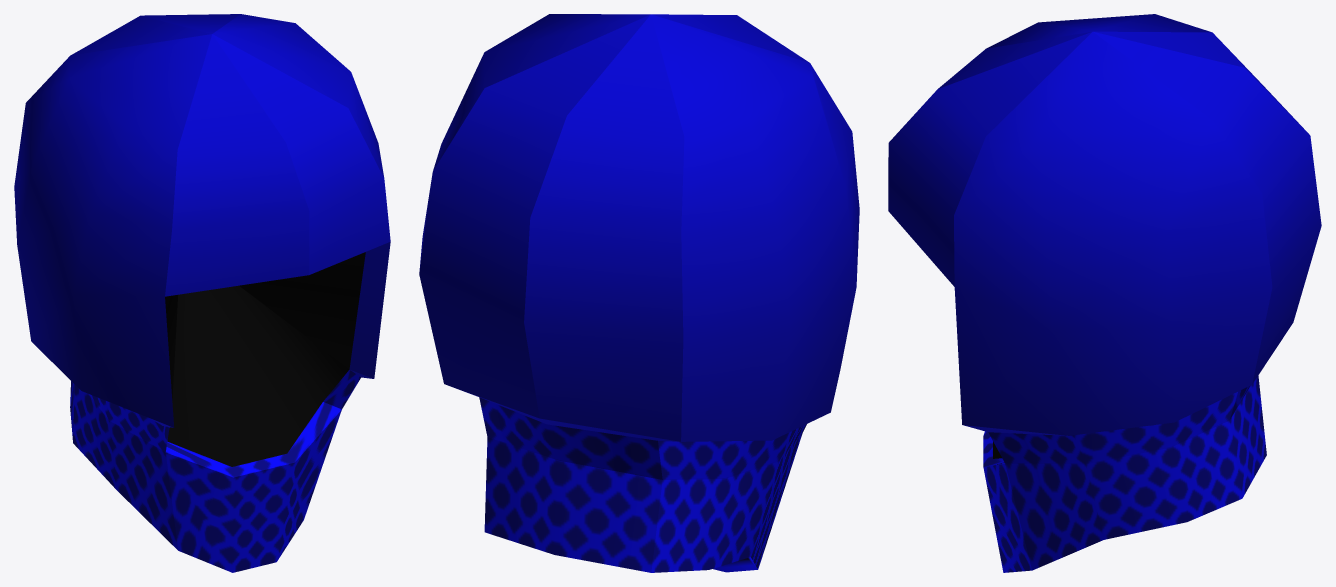
The model's file is SkullCap.fbx.
3 views of the same model, side by side, from view 1: azimuth 30°, elevation 25°; view 2: azimuth 150°, elevation 25°; view 3: azimuth 270°, elevation 25° (orthographic). The views are drawn at different scales.
Parts seen in each view (by area): view 1: SkullCap, SkullCap_ChainCoif; view 2: SkullCap, SkullCap_ChainCoif; view 3: SkullCap, SkullCap_ChainCoif.
Part boxes in pixels (box(x1,y1,x2,y2)): SkullCap: box(14, 14, 390, 427); SkullCap_ChainCoif: box(70, 285, 360, 572); SkullCap: box(419, 14, 859, 441); SkullCap_ChainCoif: box(479, 397, 806, 572); SkullCap: box(888, 14, 1321, 435); SkullCap_ChainCoif: box(983, 375, 1266, 572).
Bounding box in the file's own units: 27.2 × 41.56 × 30.8.
